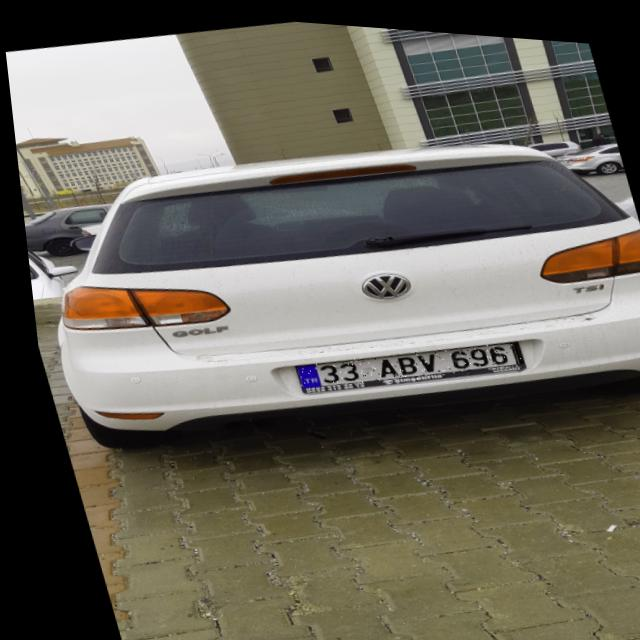license_plate: (284, 320, 520, 397)
